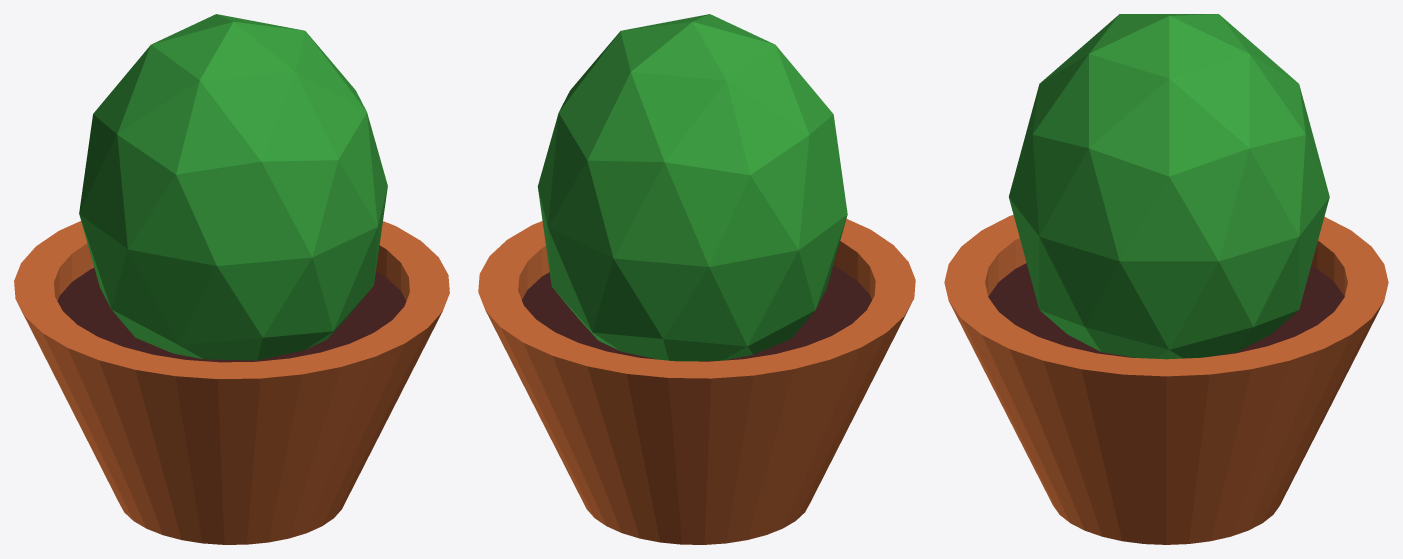
Rendered from cactus.fbx.
3 views of the same model, side by side, from view 1: azimuth 30°, elevation 25°; view 2: azimuth 150°, elevation 25°; view 3: azimuth 270°, elevation 25° (orthographic).
Visible parts, largest first — view 1: Icosphere, Cylinder; view 2: Icosphere, Cylinder; view 3: Icosphere, Cylinder.
Boxes of the visible parts, <box> form: Icosphere: <box>79,14,387,360</box>; Cylinder: <box>14,221,449,544</box>; Icosphere: <box>537,14,847,361</box>; Cylinder: <box>478,218,915,544</box>; Icosphere: <box>1009,14,1329,359</box>; Cylinder: <box>944,215,1388,544</box>.
Bounding box in the file's own units: 37.92 × 45.37 × 37.92.
